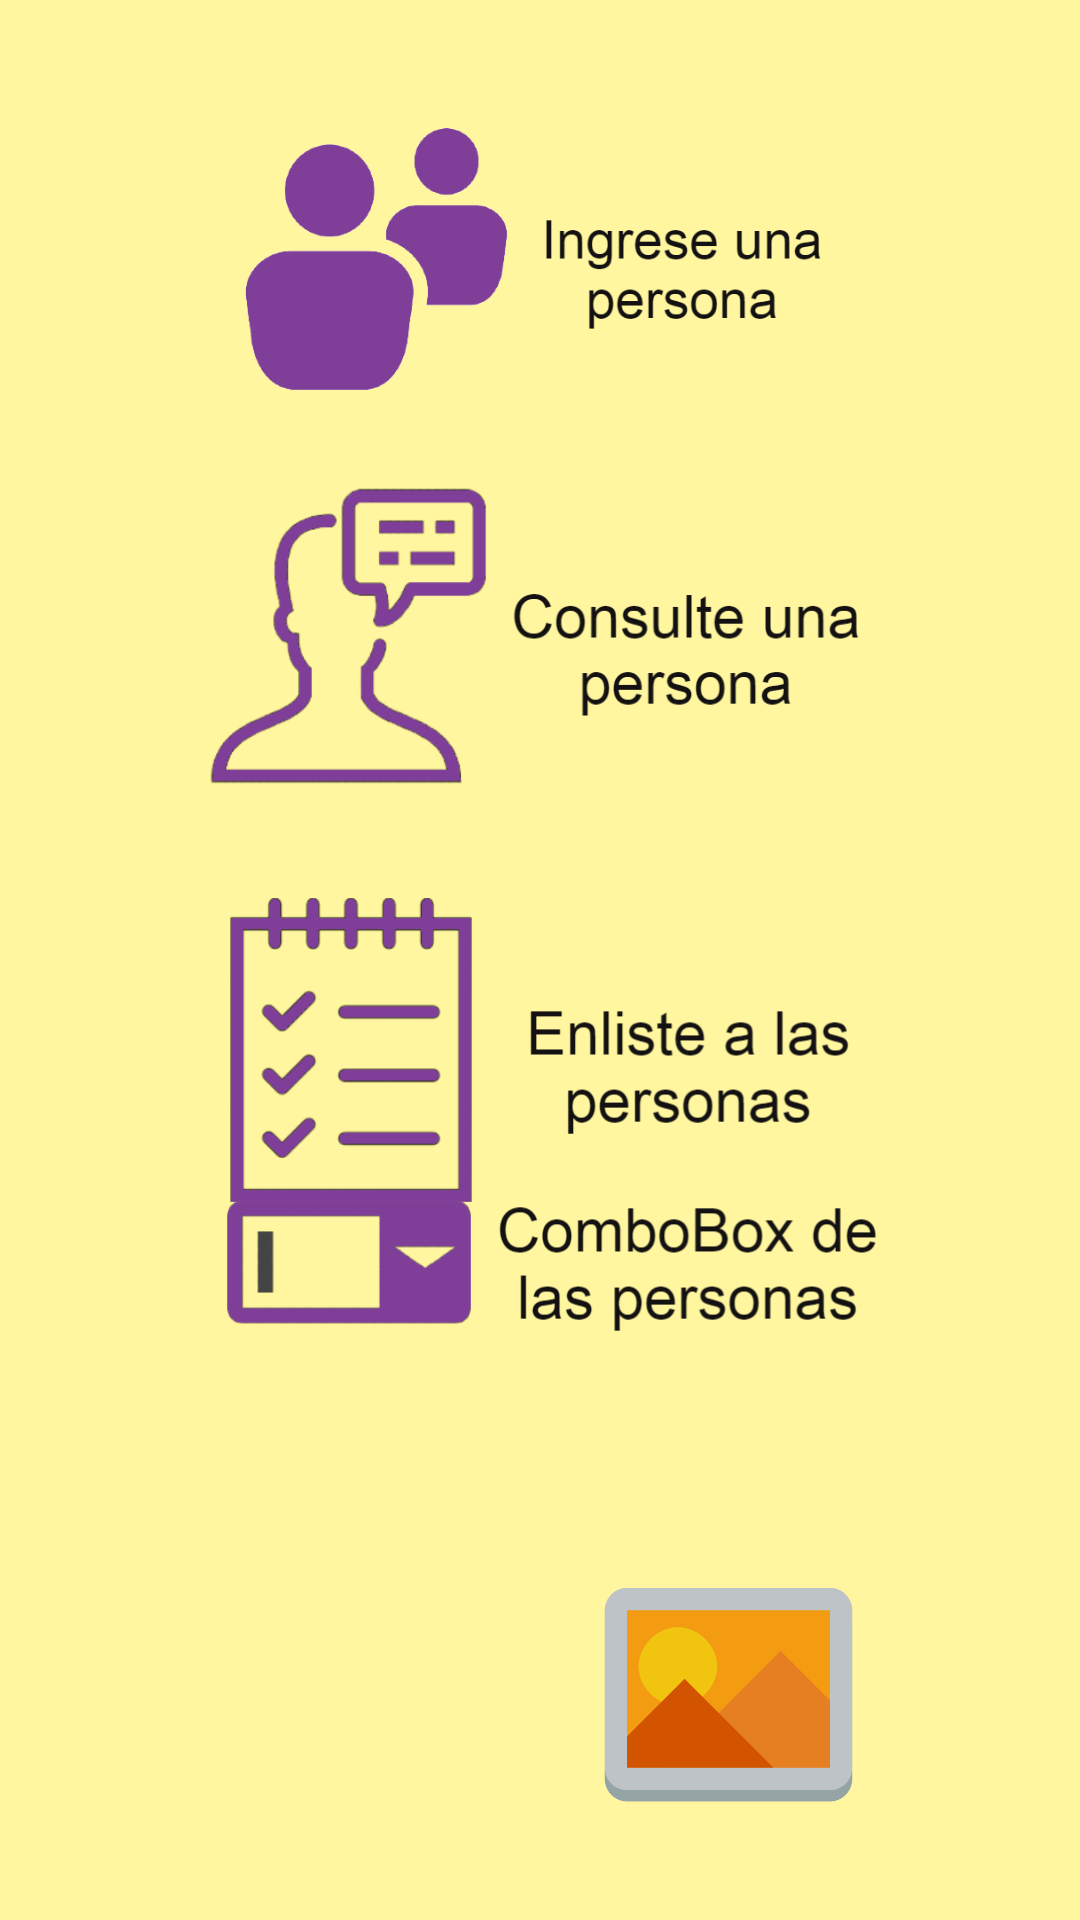

Icons on this 1080*1920 Android screen, each with its box as (x1, y1, x2, y2):
foto: (604, 1588, 853, 1802)
